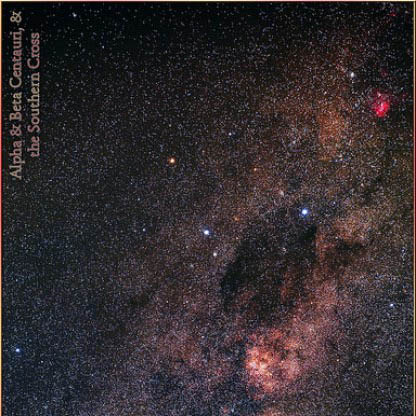Southern Cross: (163, 147, 186, 171), (197, 215, 212, 244), (296, 199, 314, 223), (222, 122, 239, 145)
